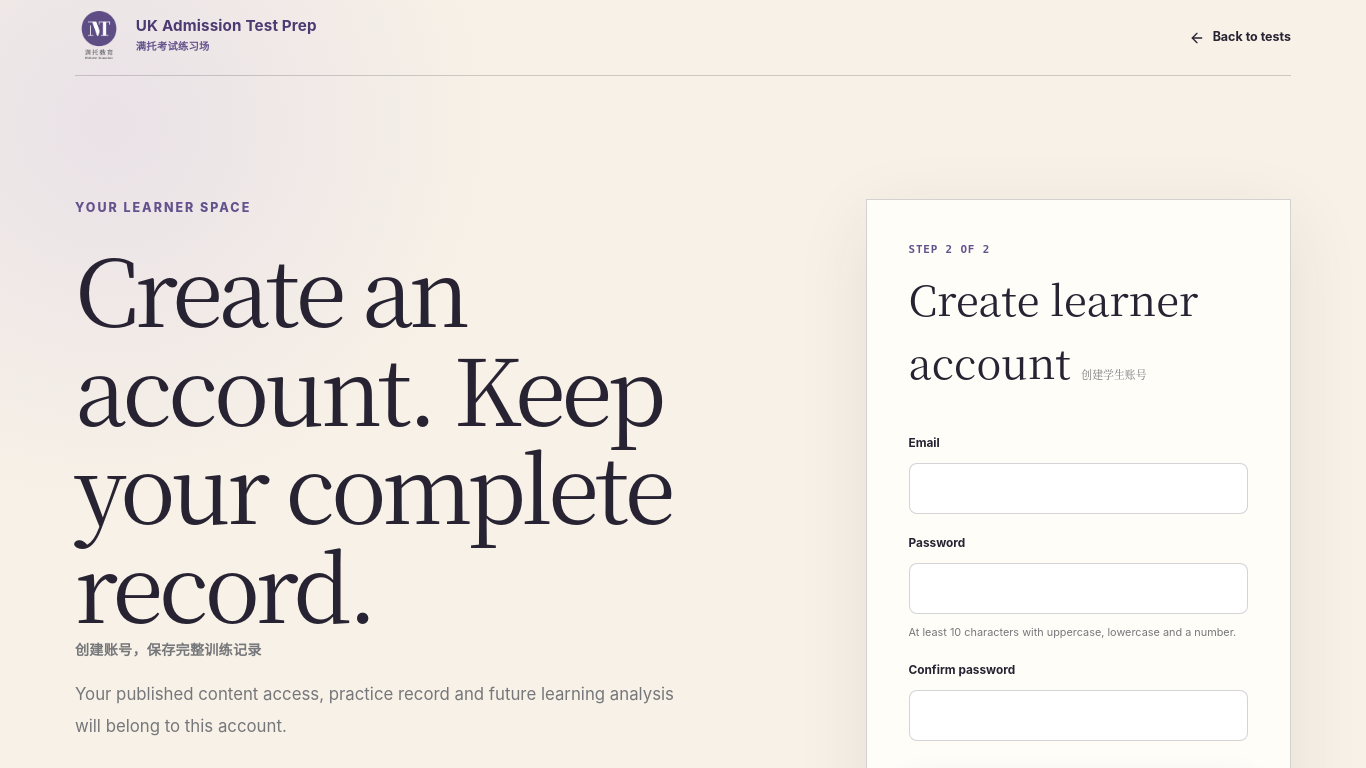
Test: invite-first account access flow › keeps the invite pending while verified email is required
In the field labelled "Email": (1078, 488) 908,463 -> 1248,514, type "student@example.com"
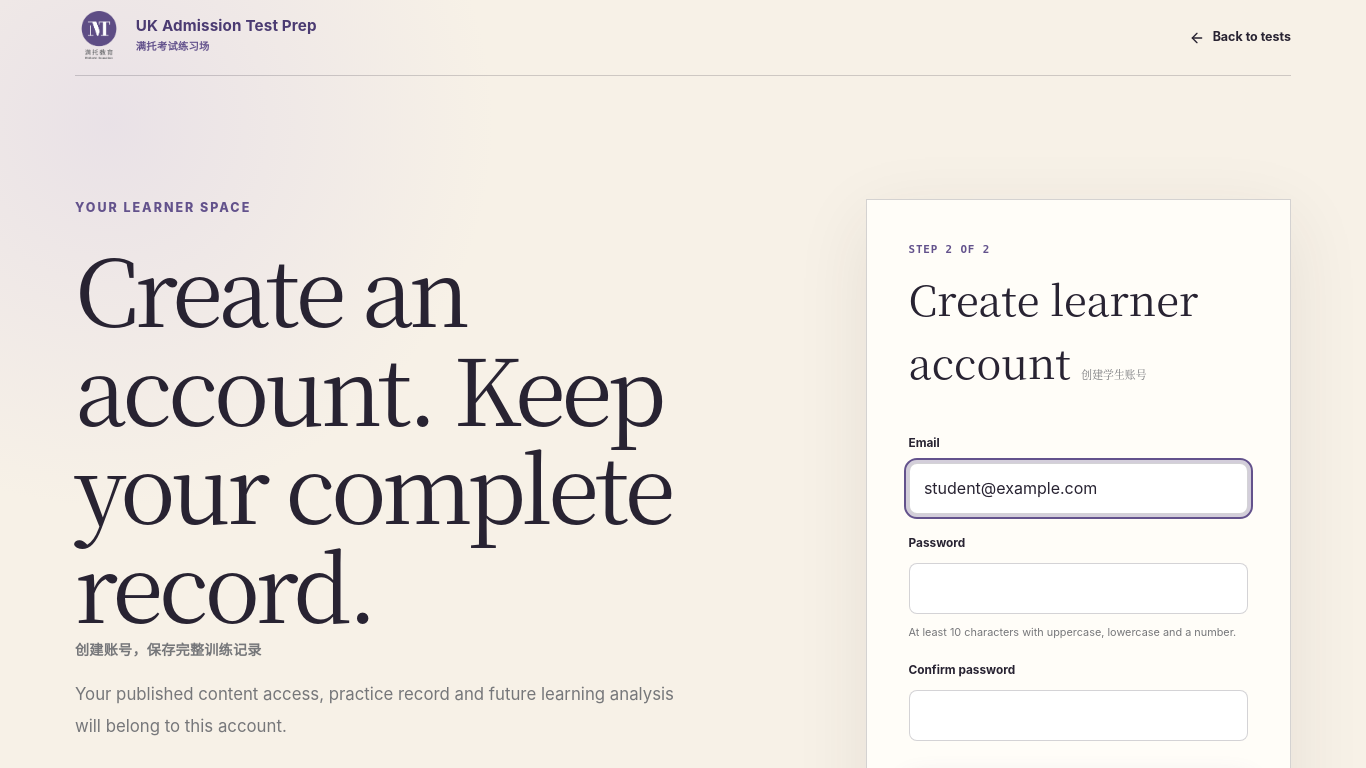
In the password field labelled "Password": (1078, 588) 908,563 -> 1248,614, type "SecurePass1"
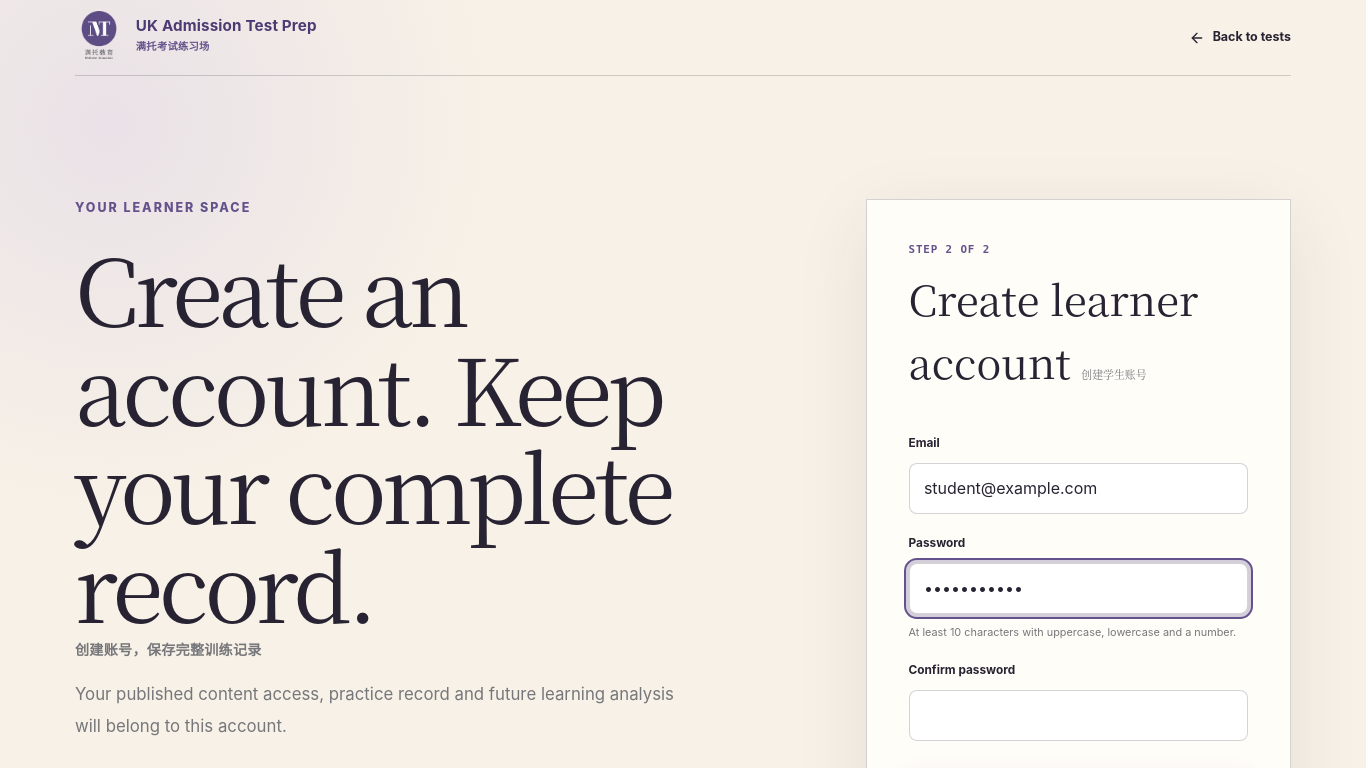
In the password field labelled "Confirm password": (1078, 716) 908,690 -> 1248,742, type "SecurePass1"
(page scrolled)
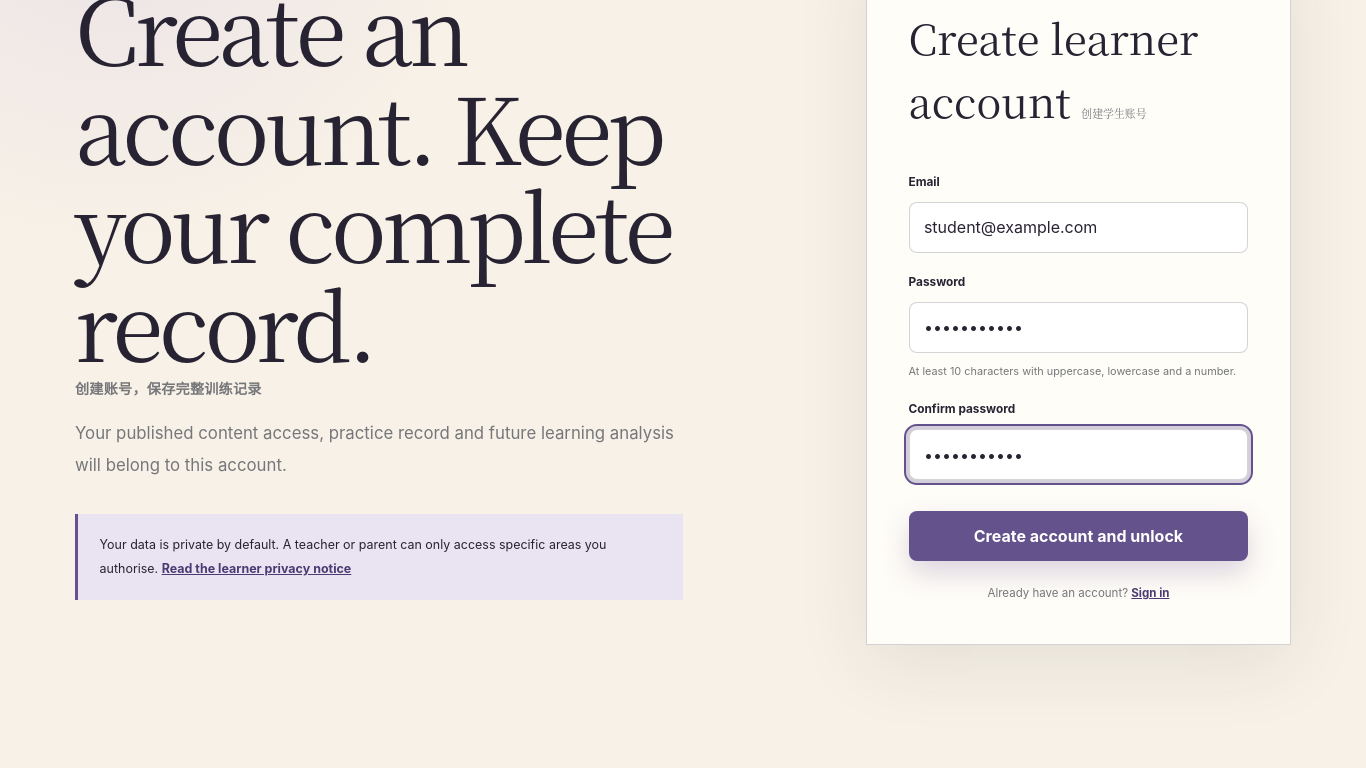
Click the button "Create account and unlock": (1078, 536) 908,511 -> 1248,561
(page scrolled)
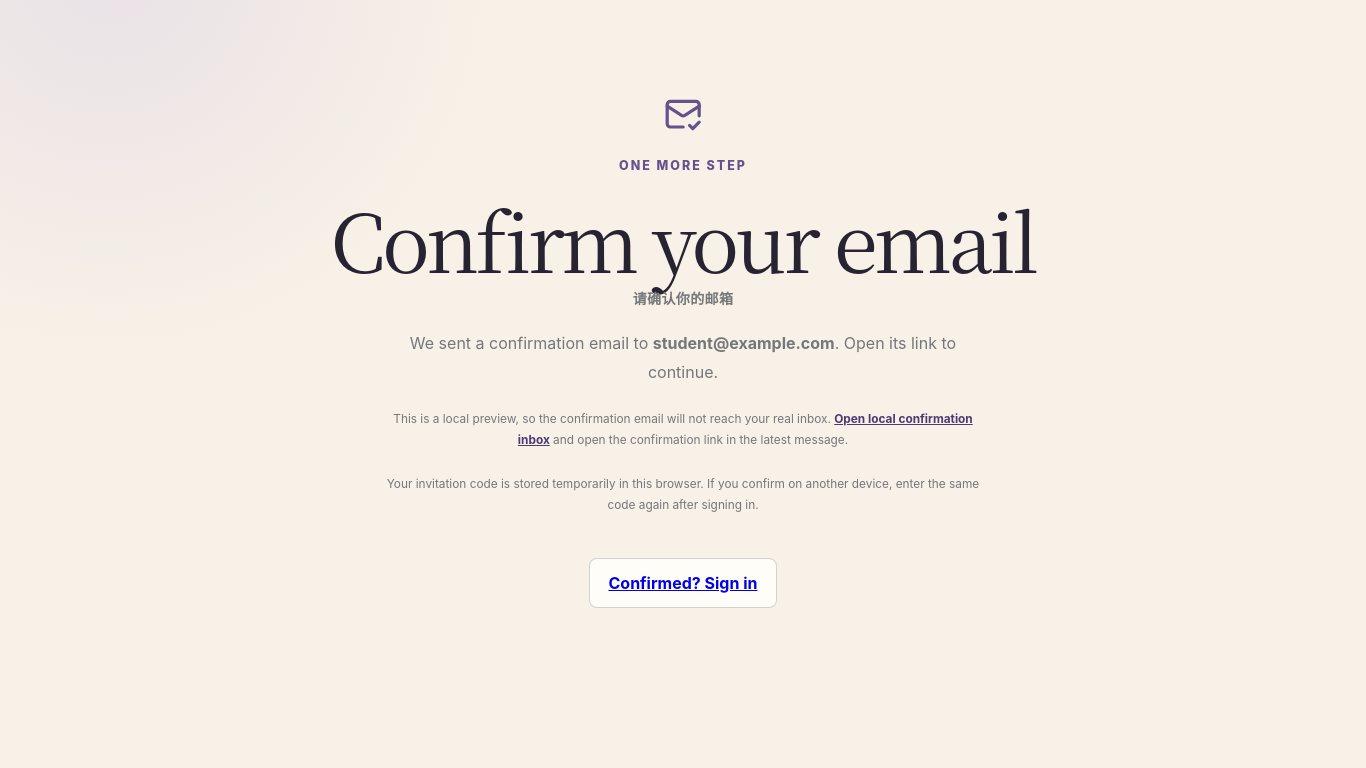
Check: the heading "Confirm your email 请确认你的邮箱" is shown, box 299,197 -> 1067,310
